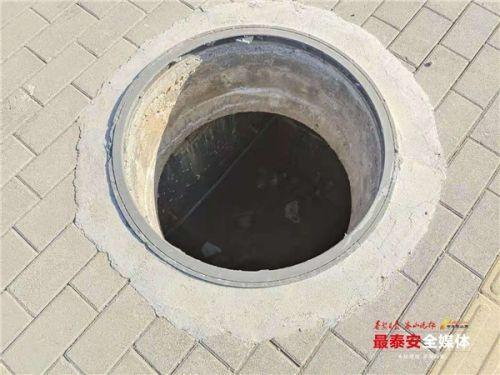lose: (83, 9, 444, 319)
